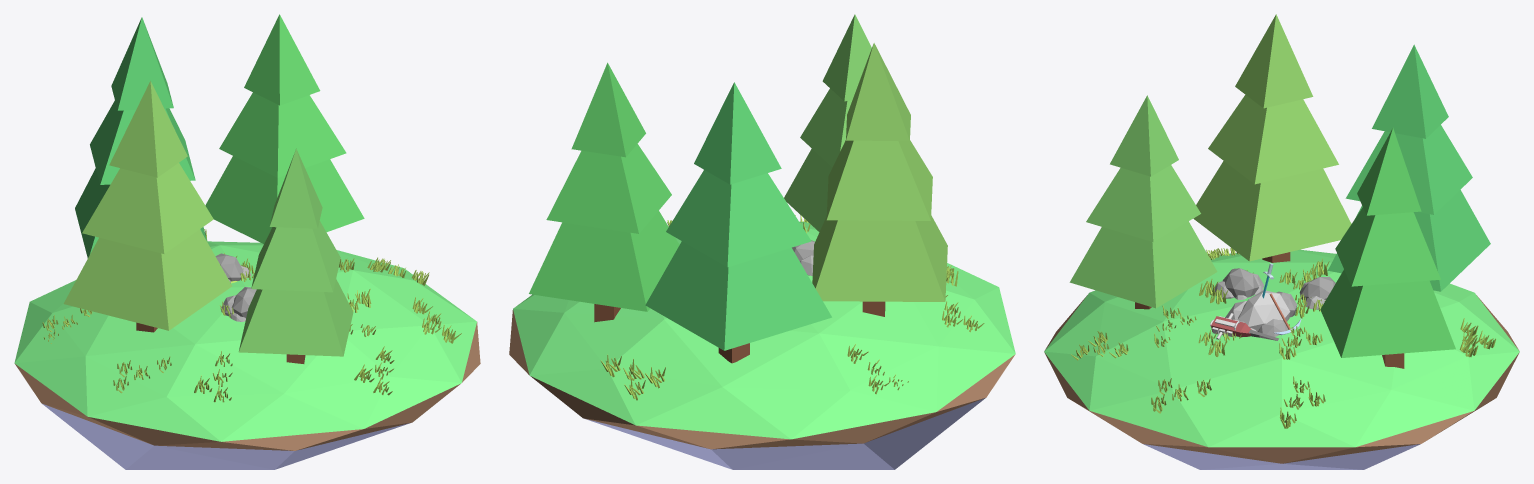
The model's file is FloatingIsland.gltf.
3 views of the same model, side by side, from view 1: azimuth 30°, elevation 25°; view 2: azimuth 150°, elevation 25°; view 3: azimuth 270°, elevation 25° (orthographic). The views are drawn at different scales.
Visible parts, largest first — view 1: Cube.007; view 2: Cube.007; view 3: Cube.007.
Boxes of the visible parts, box(x1,y1,x2,y2) form: Cube.007: box(14, 14, 480, 469); Cube.007: box(509, 14, 1015, 469); Cube.007: box(1044, 14, 1519, 469).
Bounding box in the file's own units: 1.95 × 1.85 × 2.01.
